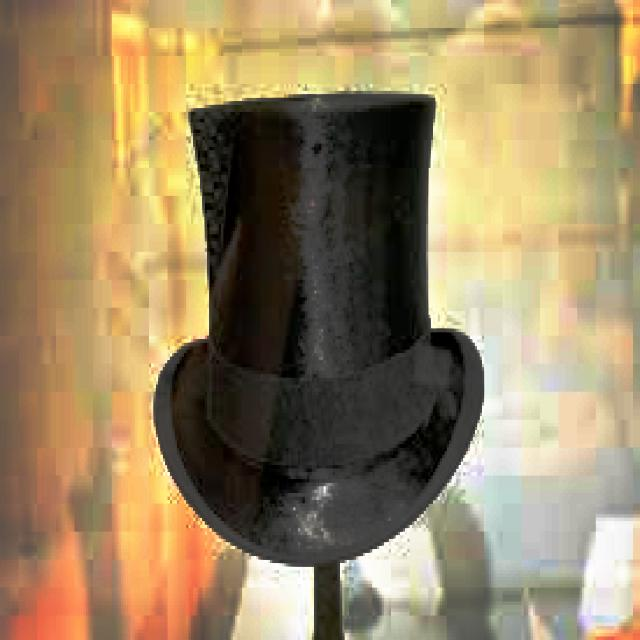TOPI: (146, 80, 488, 566)
